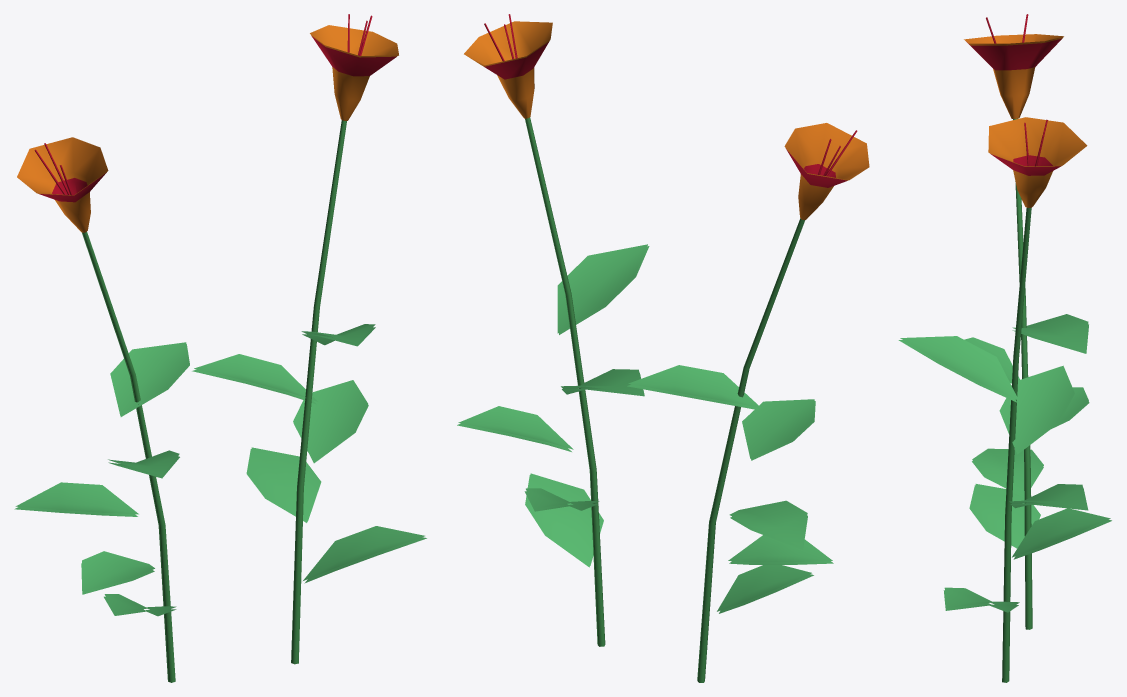
The model's file is ing_fire_lily.gltf.
3 views of the same model, side by side, from view 1: azimuth 30°, elevation 25°; view 2: azimuth 150°, elevation 25°; view 3: azimuth 270°, elevation 25° (orthographic). The views are drawn at different scales.
Parts seen in each view (by area): view 1: ing_fire_lily; view 2: ing_fire_lily; view 3: ing_fire_lily.
Part boxes in pixels (x1=…): ing_fire_lily: x1=14, y1=14, x2=426, y2=682; ing_fire_lily: x1=457, y1=14, x2=869, y2=682; ing_fire_lily: x1=898, y1=14, x2=1111, y2=682.
Size of what is drawn, in the model's own units: 0.4207 by 0.6603 by 0.215.
